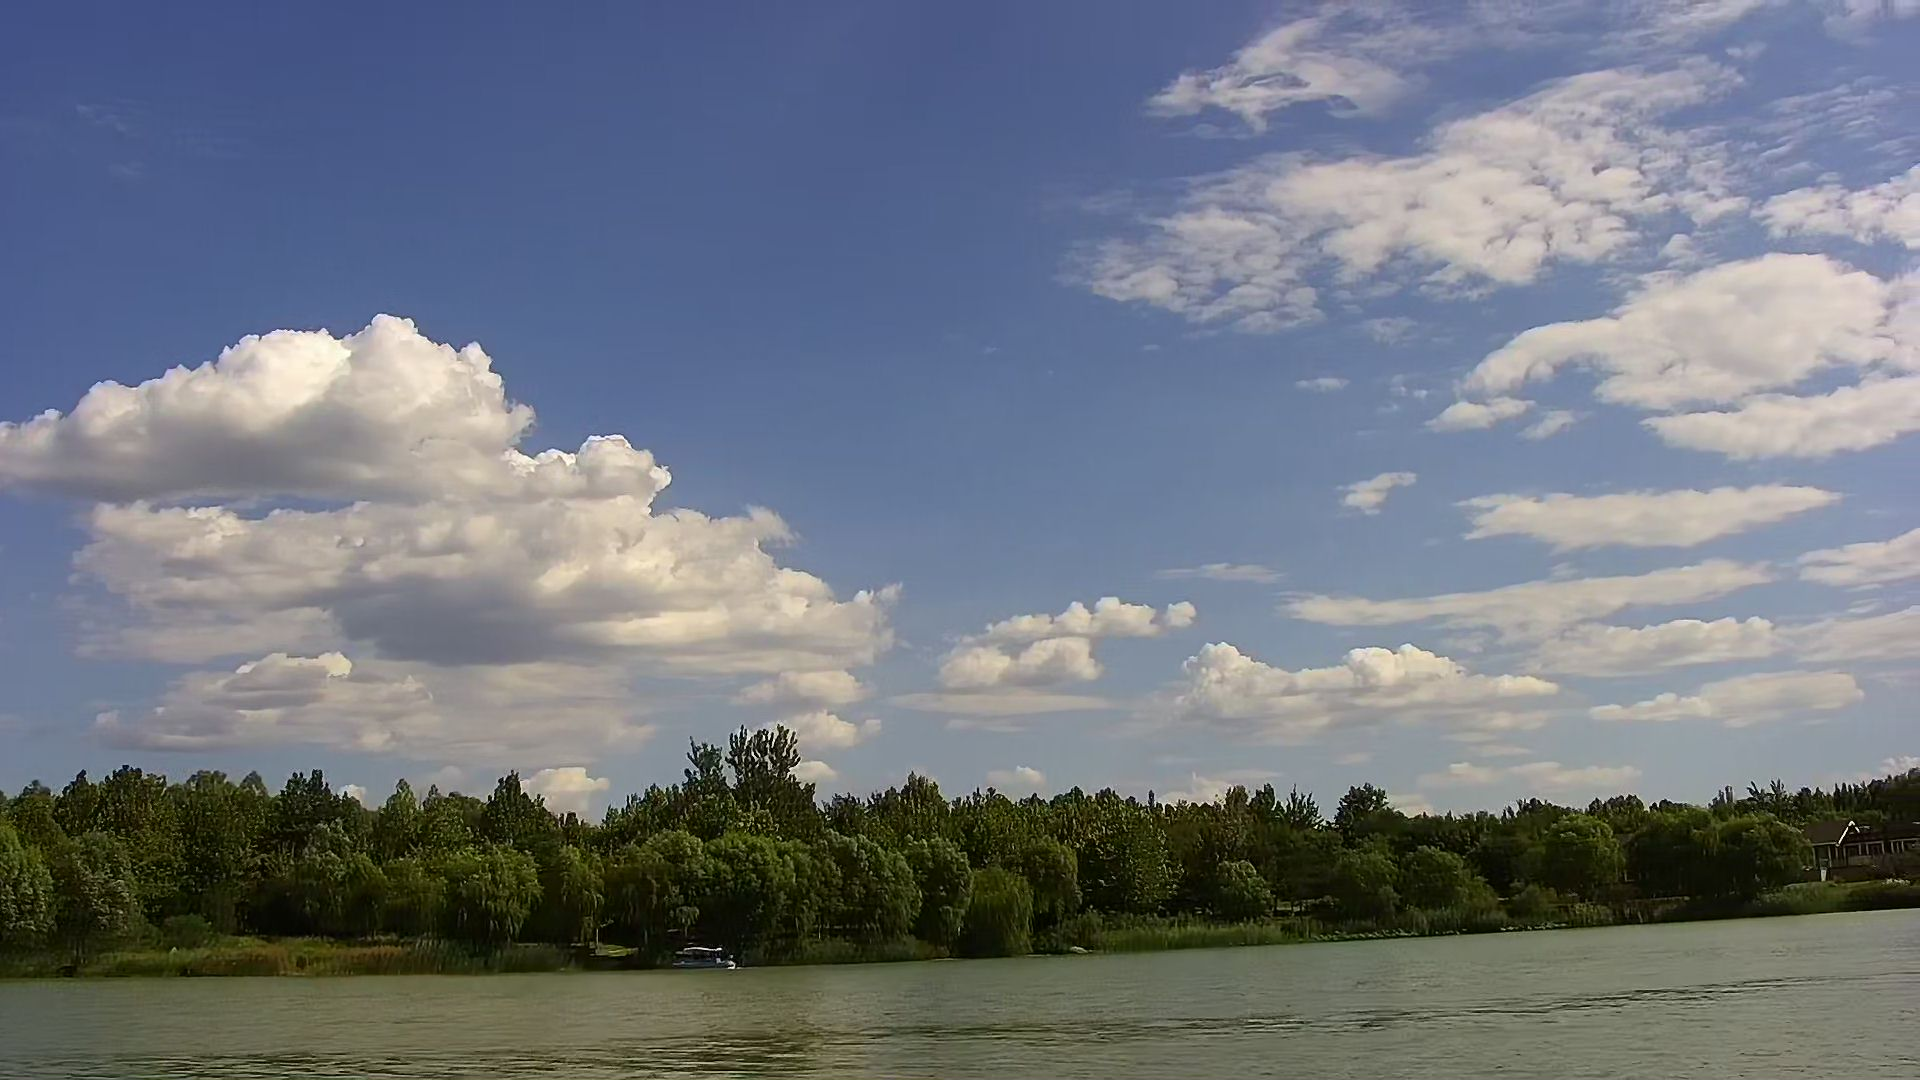boat: (663, 942, 740, 972)
